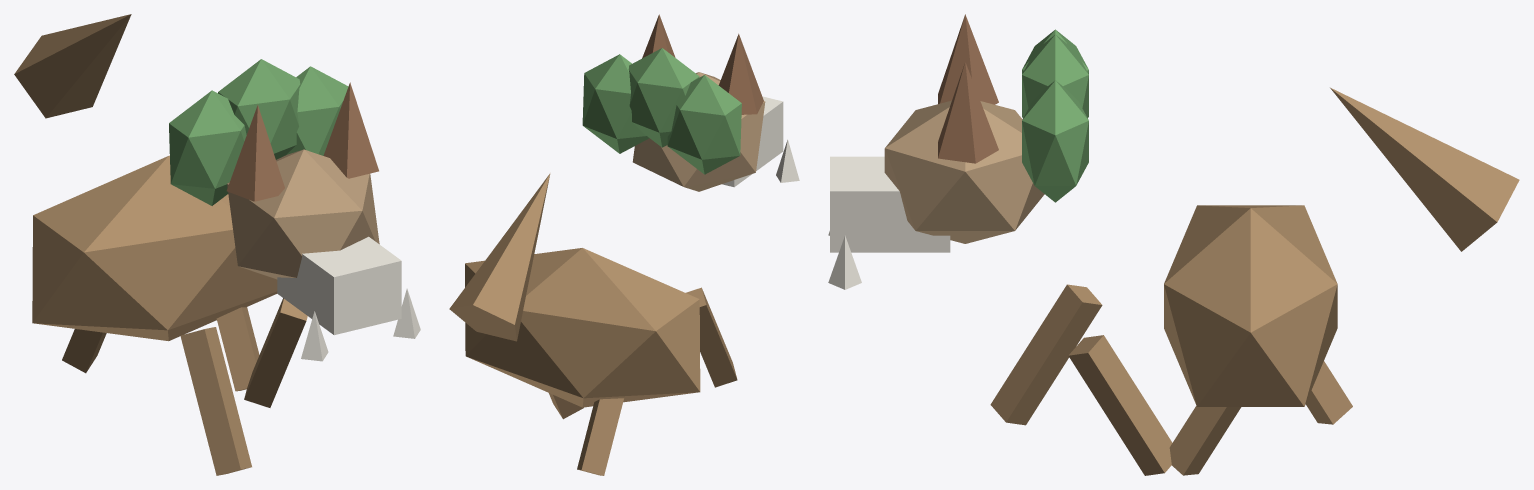
The model's file is npcpose_wolf_walk_09.glb.
The picture shows the model from 3 angles, left to right: view 1: azimuth 30°, elevation 25°; view 2: azimuth 150°, elevation 25°; view 3: azimuth 270°, elevation 25°; orthographic projection. The views are drawn at different scales.
Parts seen in each view (by area): view 1: npcpose; view 2: npcpose; view 3: npcpose.
Part boxes in pixels (x1,y1,x2,y2): npcpose: (14,14,420,475); npcpose: (449,14,799,475); npcpose: (828,14,1519,475).
Size of the model in its own units: 0.8873 by 1.22 by 1.84.
